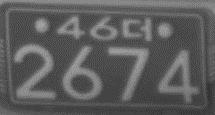2: (13, 42, 57, 100)
4: (157, 49, 201, 105), (56, 16, 85, 40)
6: (61, 46, 103, 101), (89, 15, 118, 41)
7: (107, 45, 150, 102)
더: (121, 16, 151, 42)
